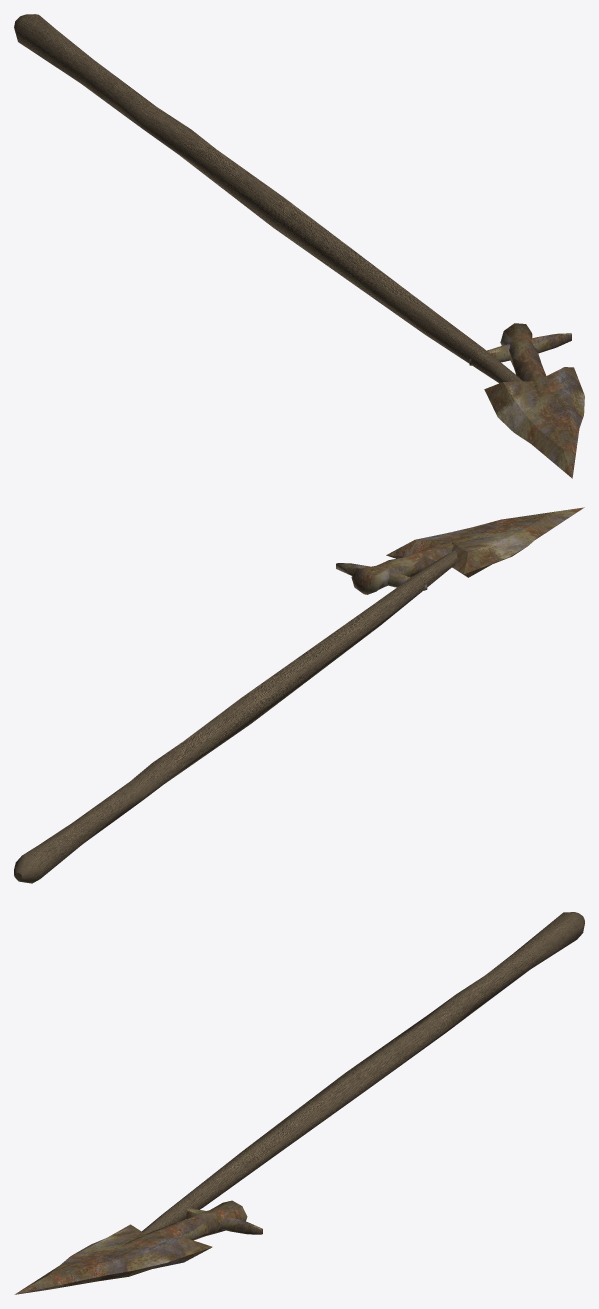
File: Spear.FBX
The picture shows the model from 3 angles, top to bottom: view 1: azimuth 30°, elevation 25°; view 2: azimuth 150°, elevation 25°; view 3: azimuth 330°, elevation 25°; orthographic projection. The views are drawn at different scales.
Visible parts, largest first — view 1: Handle002, Star001; view 2: Handle002, Star001; view 3: Handle002, Star001.
Part boxes in pixels (bbox=[...]): Handle002: bbox=[14, 14, 522, 383]; Star001: bbox=[469, 323, 584, 478]; Handle002: bbox=[14, 550, 457, 883]; Star001: bbox=[336, 507, 584, 594]; Handle002: bbox=[142, 912, 584, 1233]; Star001: bbox=[14, 1200, 262, 1294].
Size of the model in its own units: 103 by 23.49 by 755.
2 materials, 2 textured.
